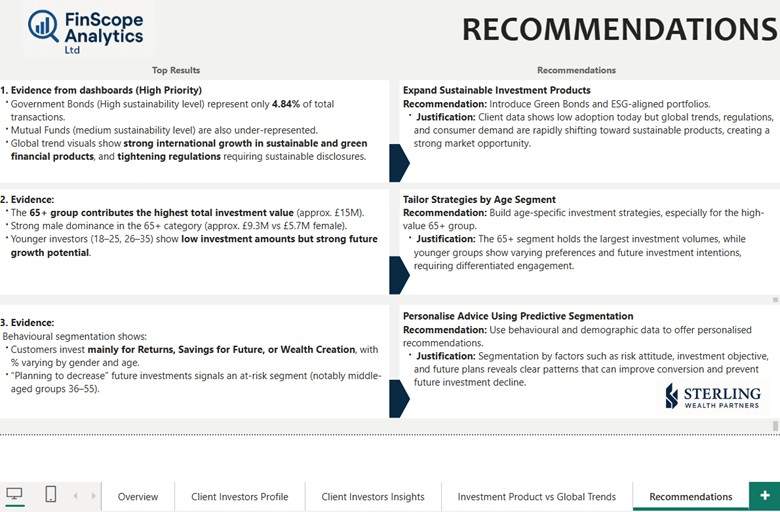

The page's visual inventory and layout, read from the dashboard file:
{"tool":"powerbi","page":{"name":"Recommendations","canvas":[1280,720],"ordinal":4},"visuals":[{"type":"textbox","box":[0,0,1280,122.9],"z":0},{"type":"image","box":[0,0,301.4,110],"z":1000},{"type":"textbox","box":[0,308.5,1279.6,51.2],"z":2000},{"type":"textbox","box":[0,109.5,1279.6,32.7],"z":3000},{"type":"textbox","box":[639.8,142.2,17.1,577.3],"z":4000},{"type":"textbox","box":[0,142.2,639.8,166.4],"z":5000},{"type":"textbox","box":[656.9,142.2,622.8,166.4],"z":6000},{"type":"textbox","box":[0.4,319.6,639.8,166.4],"z":7000},{"type":"textbox","box":[0,521.8,639.8,197.6],"z":8000},{"type":"textbox","box":[657.2,319.6,622.8,166.4],"z":9000},{"type":"textbox","box":[656.9,510.4,622.8,183.4],"z":10000},{"type":"textbox","box":[0,492,1279.6,17.1],"z":11000},{"type":"textbox","box":[0,693.9,1279.6,25.6],"z":12000},{"type":"shape","box":[639.8,246,34.1,62.6],"z":13000},{"type":"shape","box":[639.8,429.4,34.1,62.6],"z":14000},{"type":"shape","box":[639.8,631.3,34.1,62.6],"z":15000},{"type":"image","box":[1055.8,636.1,224.5,70.8],"z":16000}]}

Visuals, with their boxes on the page's 1280x720 design canvas (x1, y1, x2, y2). These are canvas units, not pixel positions in the 780x512 screenshot, which may show the page scaled, cropped or inside an application window:
textbox: l=0, t=0, r=1280, b=123
image: l=0, t=0, r=301, b=110
textbox: l=0, t=308, r=1280, b=360
textbox: l=0, t=110, r=1280, b=142
textbox: l=640, t=142, r=657, b=720
textbox: l=0, t=142, r=640, b=309
textbox: l=657, t=142, r=1280, b=309
textbox: l=0, t=320, r=640, b=486
textbox: l=0, t=522, r=640, b=719
textbox: l=657, t=320, r=1280, b=486
textbox: l=657, t=510, r=1280, b=694
textbox: l=0, t=492, r=1280, b=509
textbox: l=0, t=694, r=1280, b=720
shape: l=640, t=246, r=674, b=309
shape: l=640, t=429, r=674, b=492
shape: l=640, t=631, r=674, b=694
image: l=1056, t=636, r=1280, b=707
